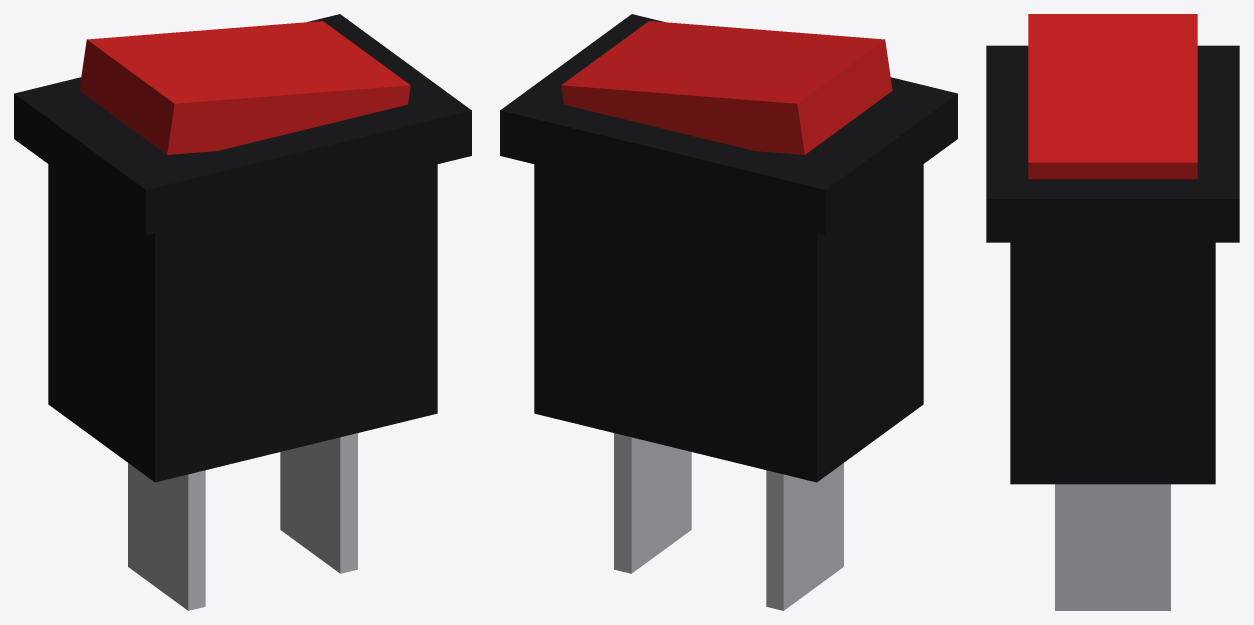
The model's file is chave_kcd11.glb.
The picture shows the model from 3 angles, left to right: view 1: azimuth 30°, elevation 25°; view 2: azimuth 150°, elevation 25°; view 3: azimuth 270°, elevation 25°; orthographic projection. The views are drawn at different scales.
Parts seen in each view (by area): view 1: corpo, tecla, nc_terminais; view 2: corpo, tecla, nc_terminais; view 3: corpo, tecla, nc_terminais.
Boxes of the visible parts, x1=… form: corpo: x1=14, y1=14, x2=471, y2=482; tecla: x1=79, y1=21, x2=410, y2=154; nc_terminais: x1=128, y1=433, x2=357, y2=610; corpo: x1=500, y1=14, x2=957, y2=482; tecla: x1=561, y1=21, x2=892, y2=154; nc_terminais: x1=614, y1=433, x2=843, y2=610; corpo: x1=986, y1=45, x2=1239, y2=484; tecla: x1=1028, y1=14, x2=1197, y2=179; nc_terminais: x1=1055, y1=484, x2=1170, y2=610.
Bounding box in the file's own units: 15 × 23.04 × 10.5.
